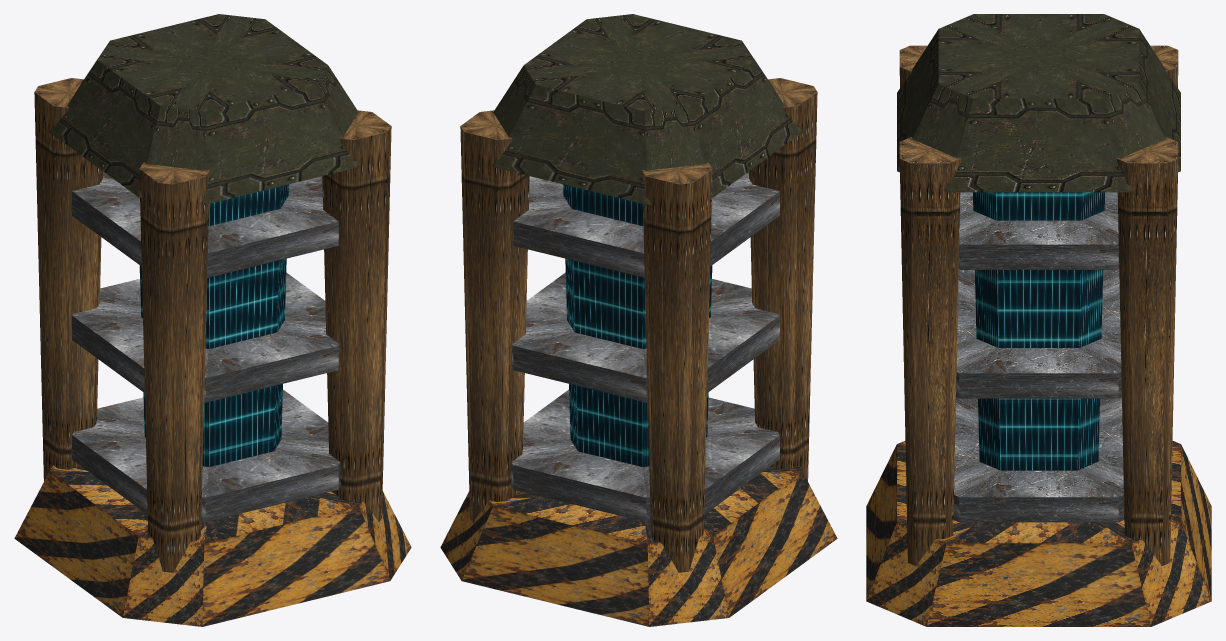
Rendered from reactor.obj.
3 renders of one model, left to right at view 1: azimuth 30°, elevation 25°; view 2: azimuth 150°, elevation 25°; view 3: azimuth 270°, elevation 25°, orthographic. The views are drawn at different scales.
Visible parts, largest first — view 1: reactor; view 2: reactor; view 3: reactor.
Boxes of the visible parts, x1=… form: reactor: x1=14, y1=14, x2=411, y2=626; reactor: x1=440, y1=14, x2=837, y2=626; reactor: x1=866, y1=14, x2=1211, y2=626.
Size of the model in its own units: 1.24 by 1.97 by 1.24.
1 material, 1 textured.
